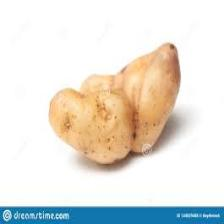Damaged potato: (45, 28, 182, 168)
